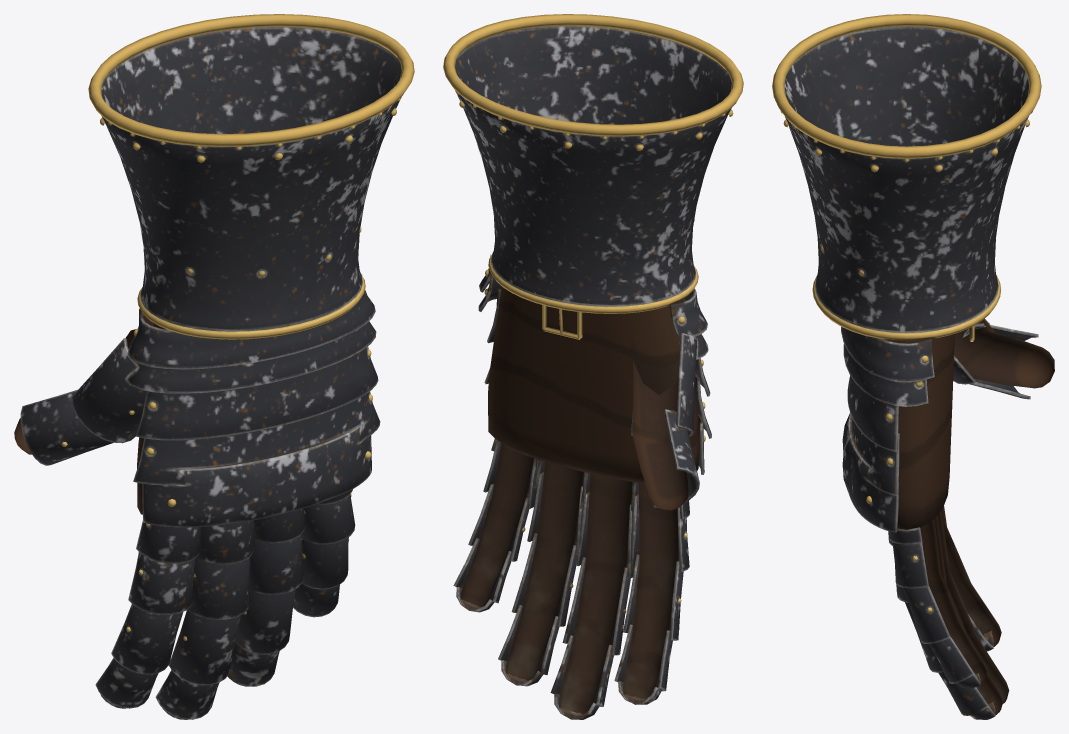
Rendered from SM_EagleGauntlets_R.fbx.
The picture shows the model from 3 angles, left to right: view 1: azimuth 30°, elevation 25°; view 2: azimuth 150°, elevation 25°; view 3: azimuth 270°, elevation 25°; orthographic projection. The views are drawn at different scales.
Parts seen in each view (by area): view 1: SM_EagleGauntlets_R; view 2: SM_EagleGauntlets_R; view 3: SM_EagleGauntlets_R.
Part boxes in pixels (<box>): SM_EagleGauntlets_R: <box>14,14,414,719</box>; SM_EagleGauntlets_R: <box>443,14,743,719</box>; SM_EagleGauntlets_R: <box>772,14,1054,719</box>.
Size of the model in its own units: 0.1484 by 0.2965 by 0.119.
